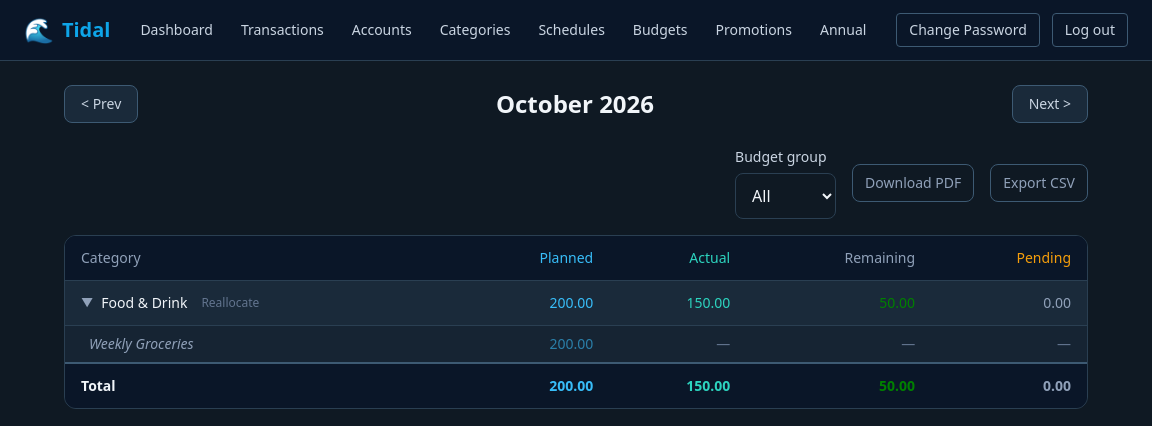
Test: MonthlyPlanView › hides schedule rows when a category is collapsed
Expected: the text "Food & Drink" is shown, [101,293,187,312]
Expected: the text "Weekly Groceries" is shown, [65,326,455,363]
// Click the collapse button
Click the button named "collapse food" at (87,303), box [81,295,93,311]
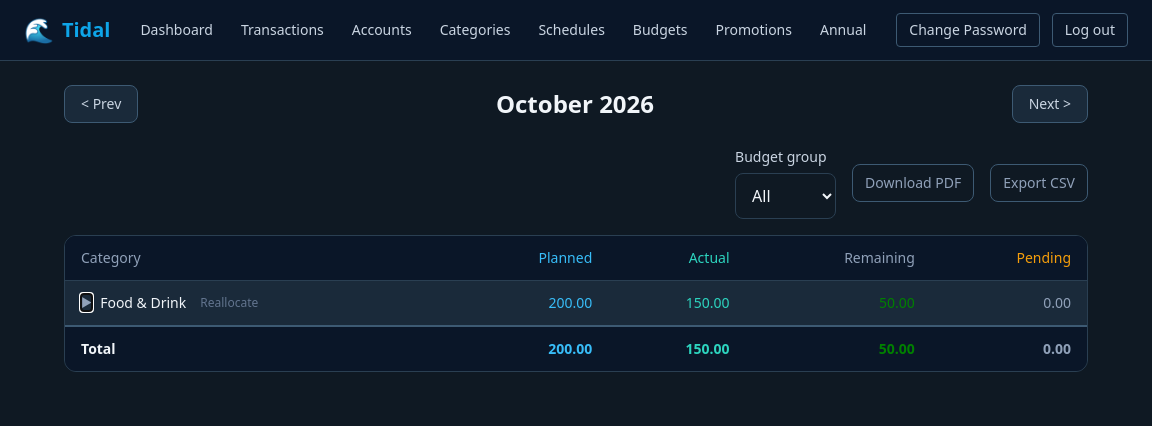
Result: the text "Weekly Groceries" is gone
